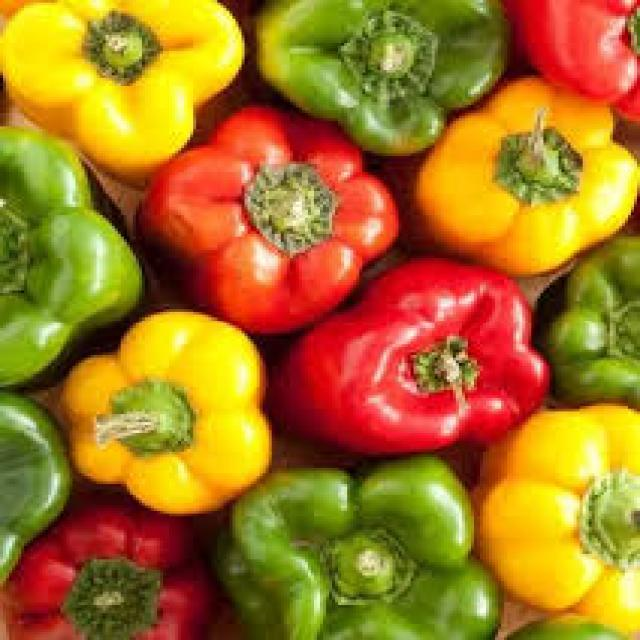Bell pepper: (134, 90, 440, 342), (233, 422, 492, 640), (292, 256, 540, 455), (26, 310, 283, 502), (0, 124, 157, 371), (424, 97, 640, 271), (479, 392, 640, 622), (278, 0, 505, 160), (19, 13, 244, 173), (0, 503, 211, 640), (534, 228, 640, 416), (505, 11, 640, 153)
